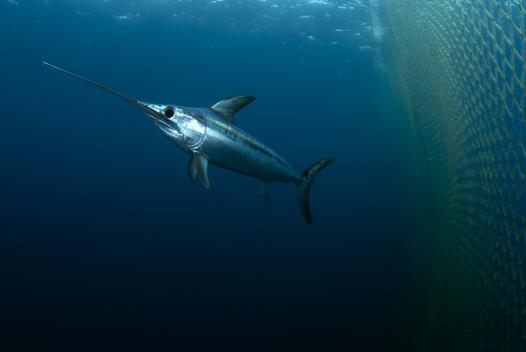swordfish: (32, 43, 367, 241)
